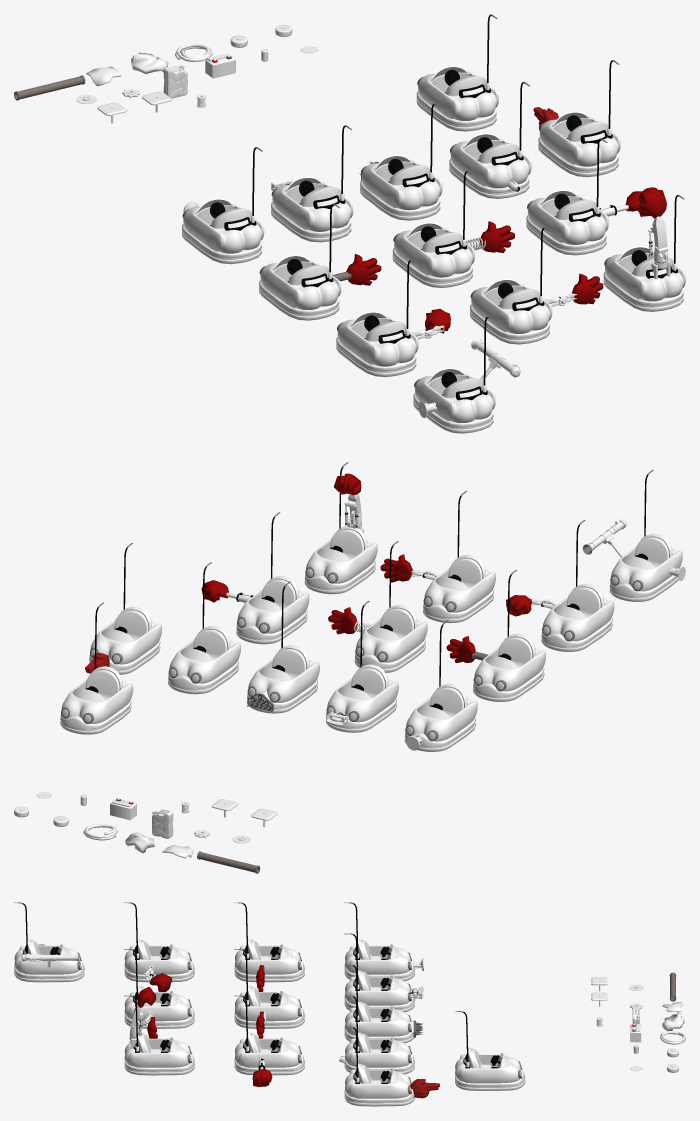
Rendered from parts_and_weapons_lite.glb.
The picture shows the model from 3 angles, top to bottom: view 1: azimuth 30°, elevation 25°; view 2: azimuth 150°, elevation 25°; view 3: azimuth 270°, elevation 25°; orthographic projection. The views are drawn at different scales.
Visible parts, largest first — view 1: ReferenceCar.005, ReferenceCar.008, ReferenceCar.002, ReferenceCar, DemoCar, ReferenceCar.006, ReferenceCar.007, ReferenceCar.009, ReferenceCar.001, ReferenceCar.004, ReferenceCar.003, ReferenceCar.011 (+9 smaller); view 2: DemoCar, ReferenceCar.003, ReferenceCar.005, ReferenceCar.008, ReferenceCar.009, ReferenceCar.010, ReferenceCar.007, ReferenceCar.011, ReferenceCar, ReferenceCar.006, ReferenceCar.001, ReferenceCar.002 (+2 smaller); view 3: ReferenceCar.004, ReferenceCar.010, DemoCar, ReferenceCar.005, ReferenceCar.007, ReferenceCar.006, ReferenceCar.008, ReferenceCar.011, ReferenceCar.003, ReferenceCar, ReferenceCar.001, ReferenceCar.002 (+3 smaller).
Boxes of the visible parts, x1,y1,x2,y2 form: ReferenceCar.005: [259, 203, 341, 320]; ReferenceCar.008: [336, 260, 418, 377]; ReferenceCar.002: [360, 103, 442, 220]; ReferenceCar: [182, 147, 264, 264]; DemoCar: [416, 14, 498, 131]; ReferenceCar.006: [392, 171, 474, 287]; ReferenceCar.007: [526, 138, 608, 255]; ReferenceCar.009: [470, 227, 552, 344]; ReferenceCar.001: [271, 125, 353, 242]; ReferenceCar.004: [538, 60, 620, 177]; ReferenceCar.003: [449, 81, 531, 198]; ReferenceCar.011: [413, 316, 495, 433]; DemoCar: [60, 602, 133, 734]; ReferenceCar.003: [168, 562, 240, 694]; ReferenceCar.005: [473, 570, 545, 701]; ReferenceCar.008: [541, 520, 614, 651]; ReferenceCar.009: [423, 491, 495, 623]; ReferenceCar.010: [304, 462, 377, 594]; ReferenceCar.007: [236, 512, 309, 644]; ReferenceCar.011: [609, 470, 682, 601]; ReferenceCar: [404, 620, 477, 751]; ReferenceCar.006: [354, 541, 427, 672]; ReferenceCar.001: [326, 601, 398, 732]; ReferenceCar.002: [247, 581, 319, 713]; ReferenceCar.004: [344, 1026, 414, 1106]; ReferenceCar.010: [124, 995, 194, 1075]; DemoCar: [455, 1011, 525, 1090]; ReferenceCar.005: [234, 902, 304, 982]; ReferenceCar.007: [234, 995, 304, 1075]; ReferenceCar.006: [234, 949, 304, 1028]; ReferenceCar.008: [124, 902, 194, 982]; ReferenceCar.011: [14, 902, 84, 982]; ReferenceCar.003: [344, 995, 414, 1074]; ReferenceCar: [344, 902, 414, 981]; ReferenceCar.001: [344, 933, 414, 1012]; ReferenceCar.002: [344, 964, 413, 1043].
Size of the model in its own units: 9.39 by 2.7 by 18.31.
